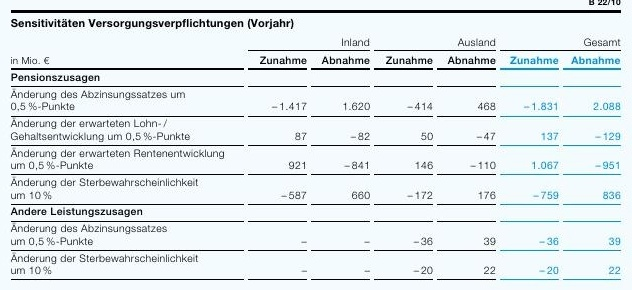table: (0, 0, 632, 290)
